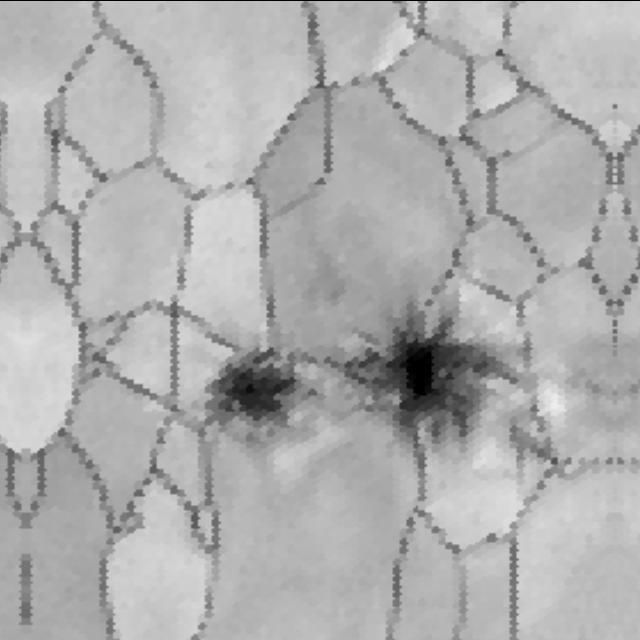good_void: (327, 295, 525, 463), (191, 326, 330, 450), (504, 398, 565, 473)
